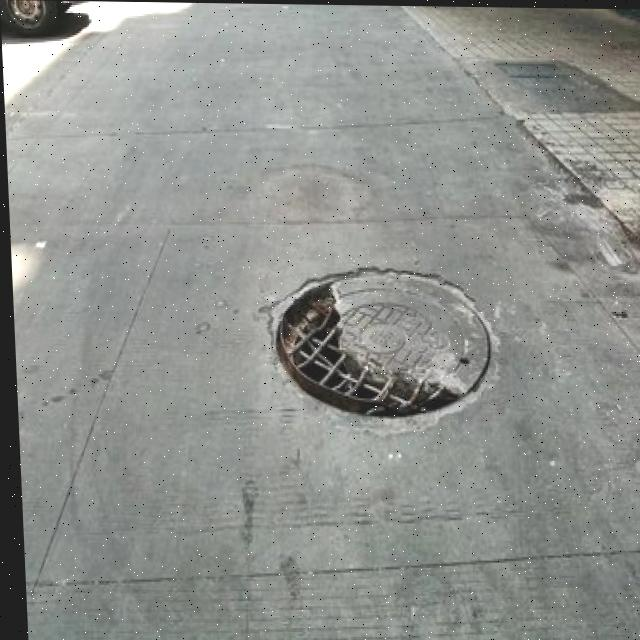manhole: (257, 254, 495, 423)
